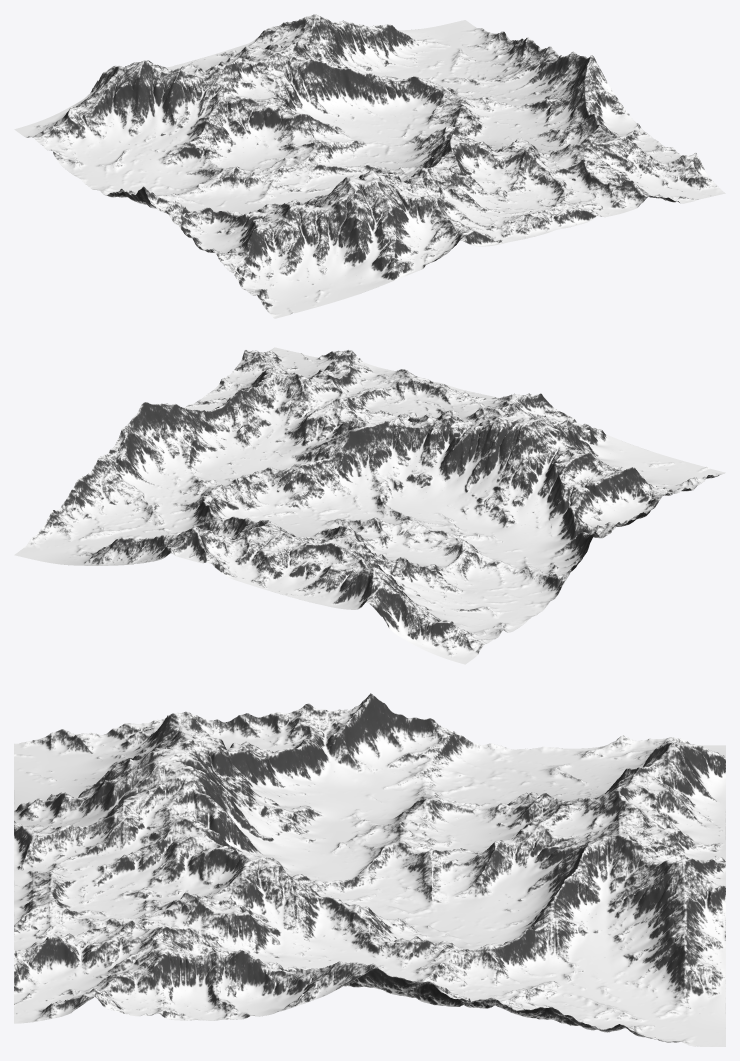
Rendered from snowy_mountain_-_terrain_4k.glb.
3 views of the same model, one above another, from view 1: azimuth 30°, elevation 25°; view 2: azimuth 150°, elevation 25°; view 3: azimuth 270°, elevation 25° (orthographic). The views are drawn at different scales.
Parts seen in each view (by area): view 1: Object_3, Object_2, Object_4; view 2: Object_2, Object_3, Object_4; view 3: Object_2, Object_3, Object_4.
Part boxes in pixels (left/top/right/bottom): Object_3: left=91, top=24, right=725, bottom=314; Object_2: left=14, top=14, right=655, bottom=318; Object_4: left=30, top=14, right=535, bottom=189; Object_2: left=14, top=373, right=725, bottom=664; Object_3: left=21, top=347, right=710, bottom=613; Object_4: left=27, top=476, right=540, bottom=654; Object_2: left=14, top=693, right=725, bottom=1046; Object_3: left=14, top=693, right=708, bottom=1046; Object_4: left=503, top=740, right=713, bottom=1045.
Bounding box in the file's own units: 1 × 0.1432 × 1.
Materials: 1 (1 with a texture image).
